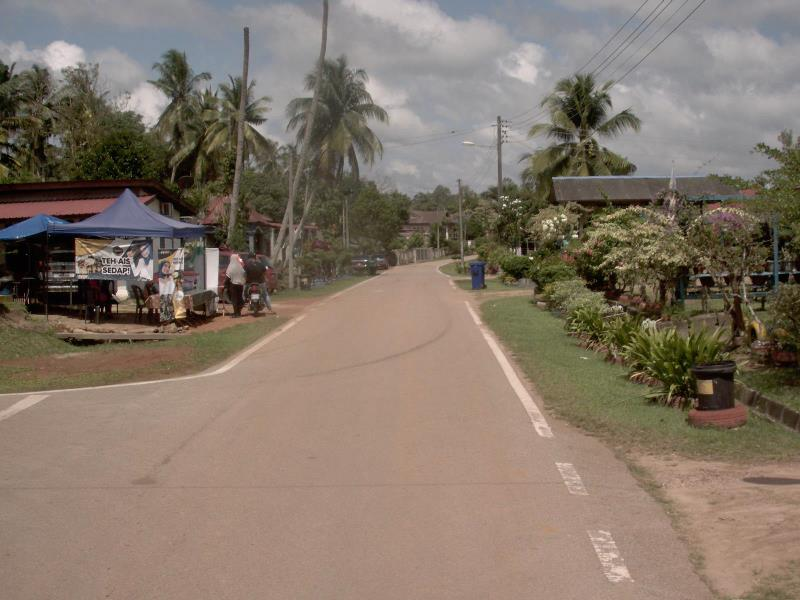ads_sign: (65, 234, 152, 287)
